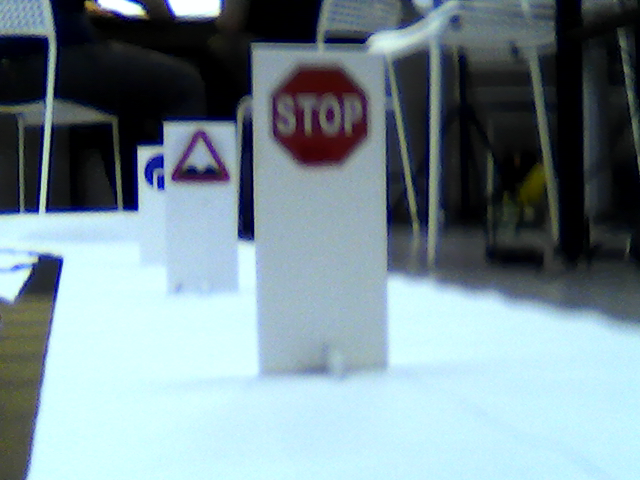Nerov: (170, 130, 231, 186)
Stop: (269, 70, 369, 160)
